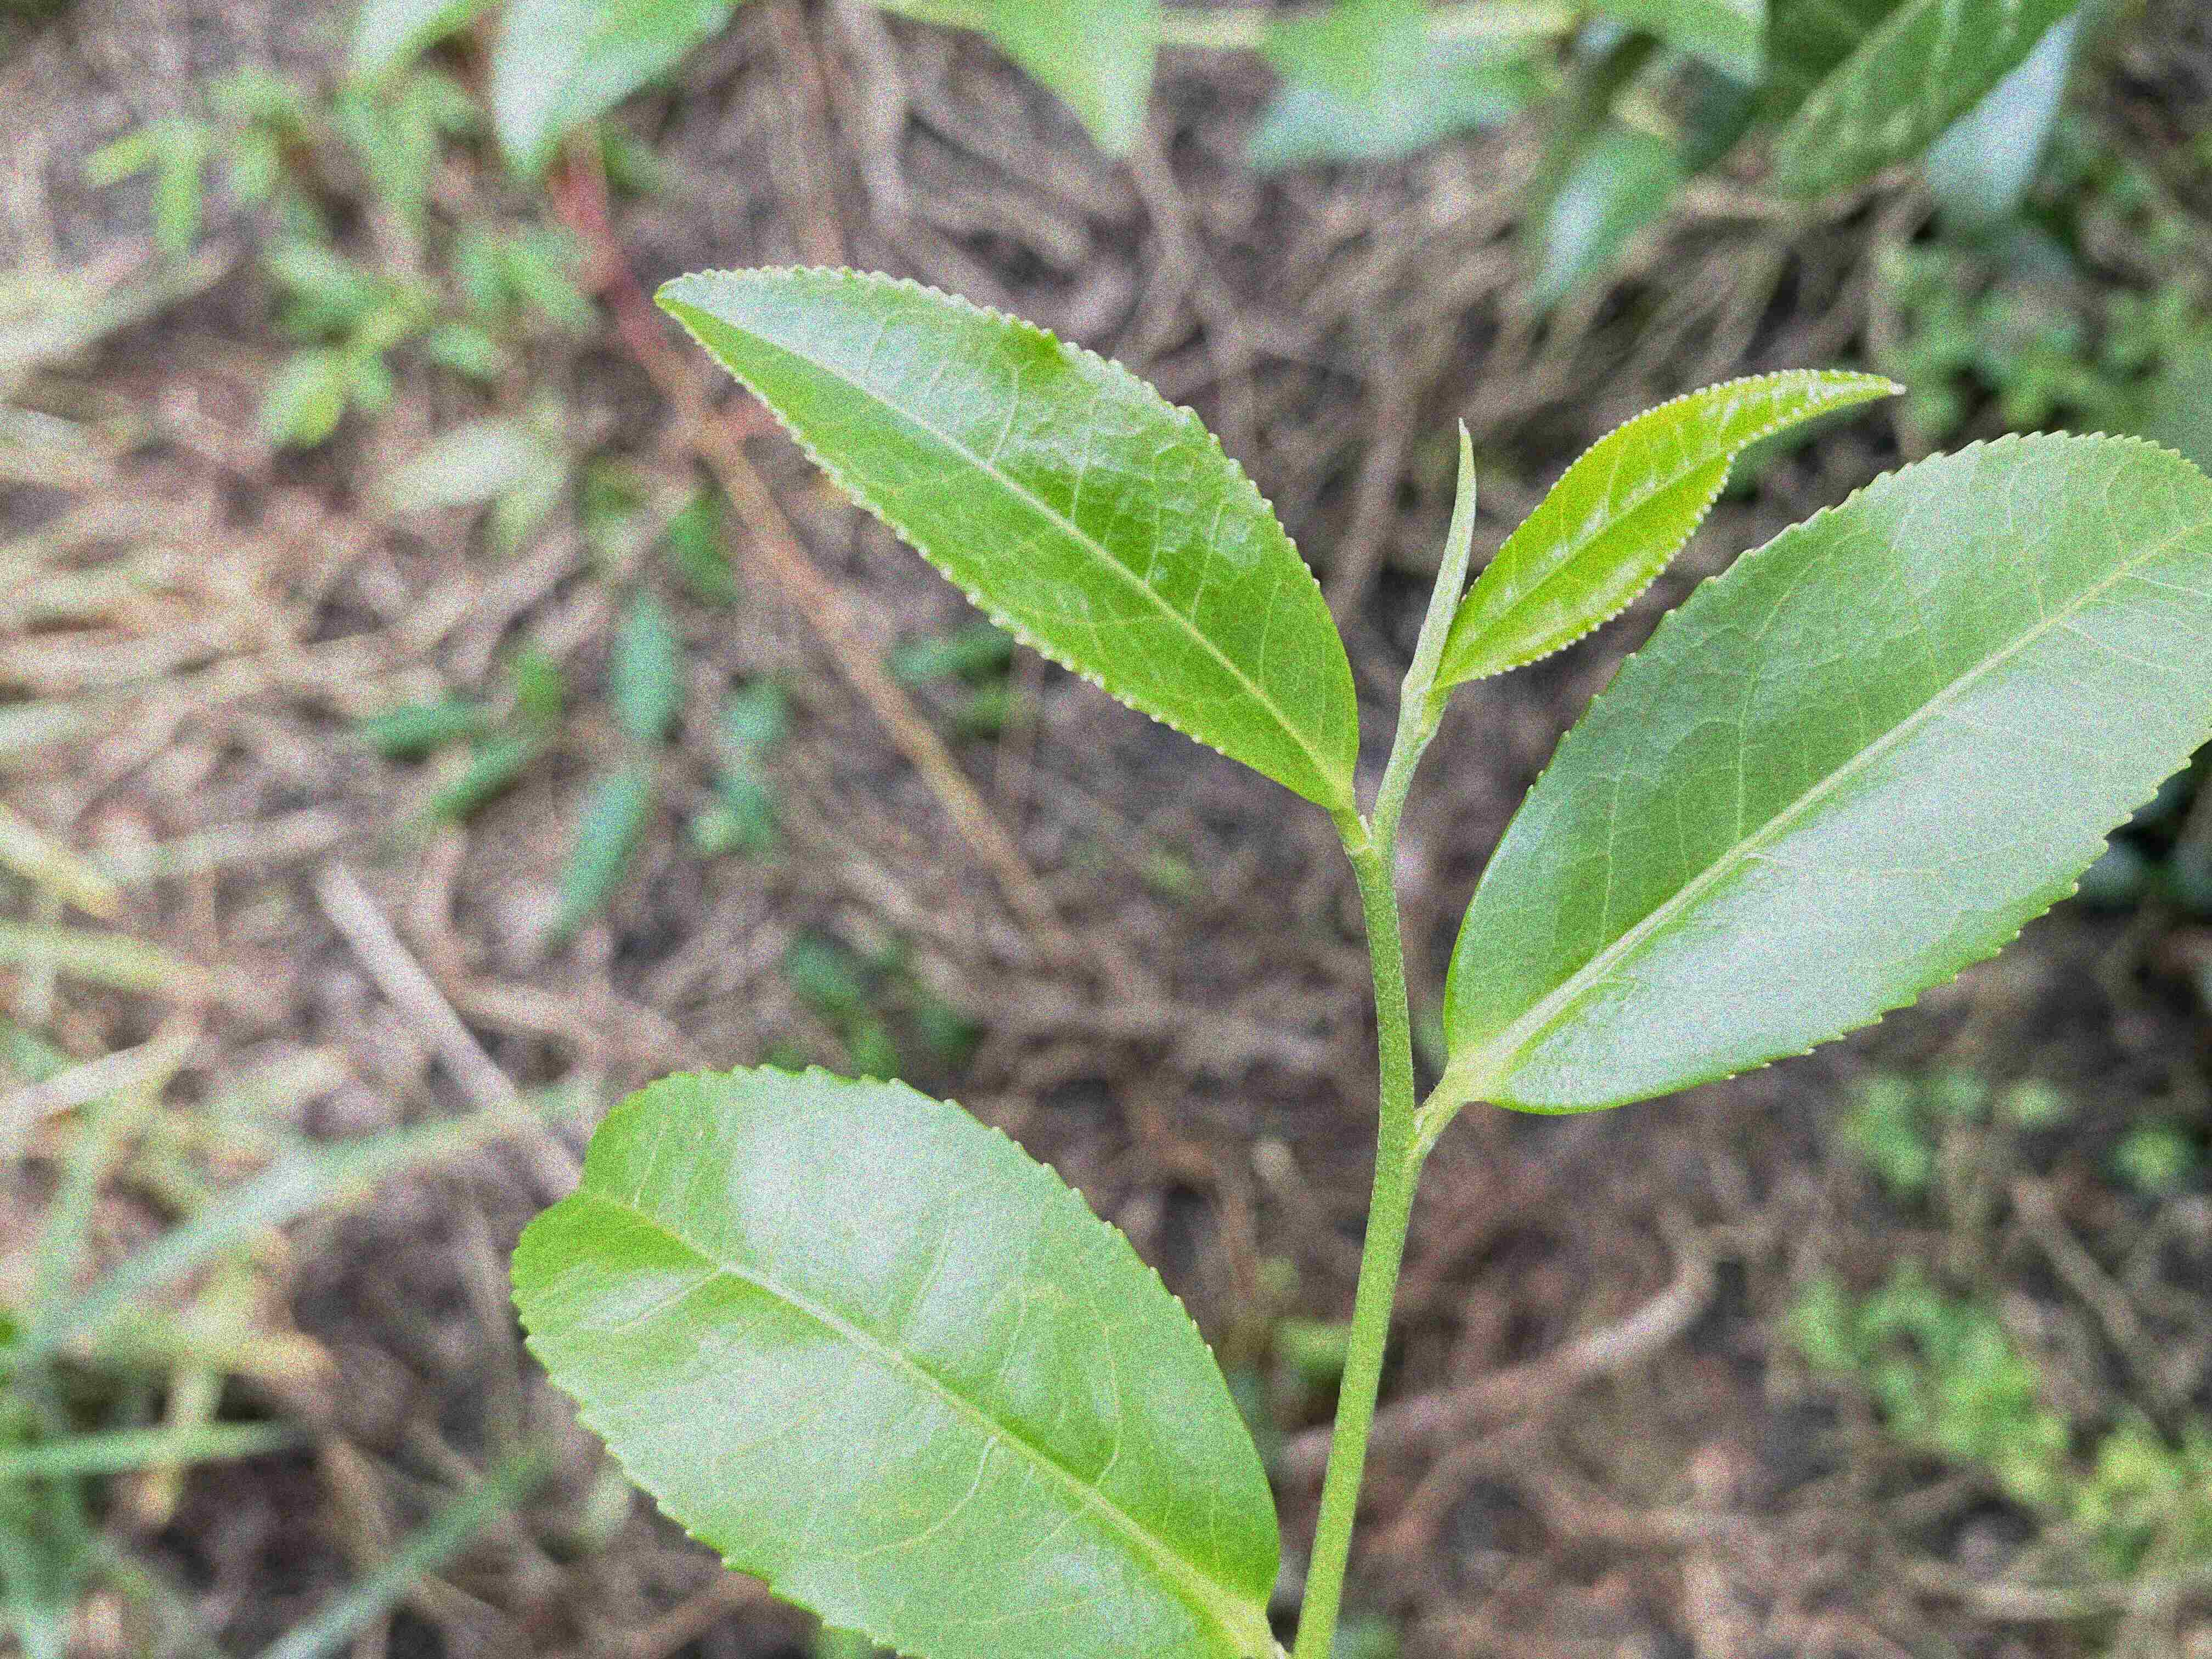healthy: (1440, 427, 2209, 1115), (505, 1058, 1282, 1656), (648, 261, 1364, 809), (1437, 369, 1907, 694)
